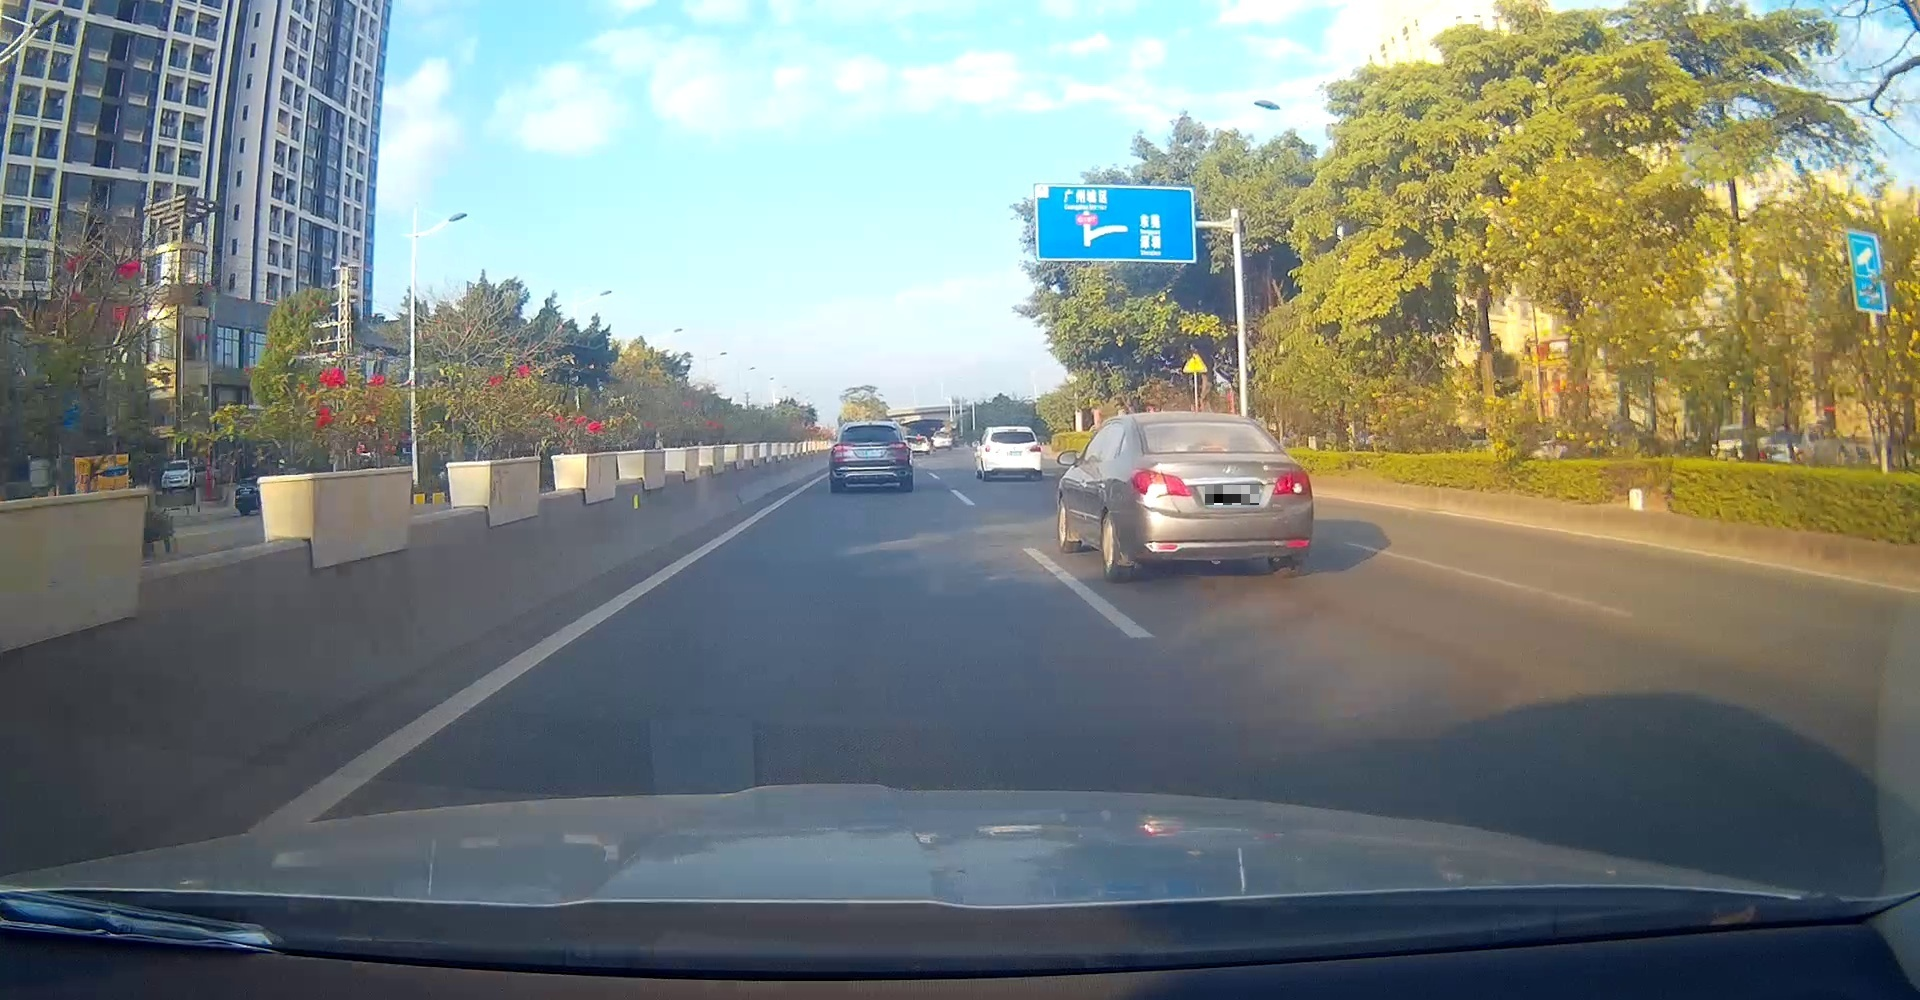L_light: (1131, 468, 1192, 497), (830, 443, 850, 456), (984, 445, 999, 453)
R_light: (1272, 468, 1310, 494), (886, 442, 907, 451), (1029, 443, 1041, 452)
T_light: (1203, 445, 1227, 452), (865, 426, 875, 429), (1007, 429, 1017, 431)
day-no: (1126, 412, 1314, 582), (829, 421, 910, 492), (983, 426, 1041, 481)
plate_1: (1205, 485, 1258, 505)
